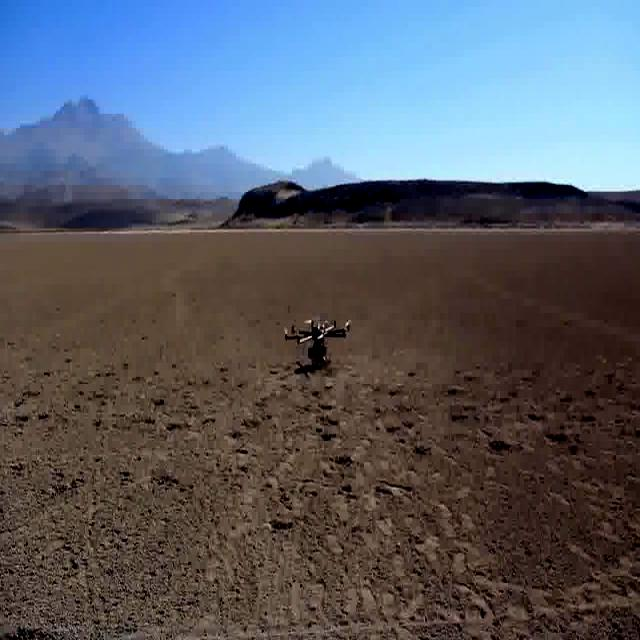drone: (281, 310, 352, 368)
